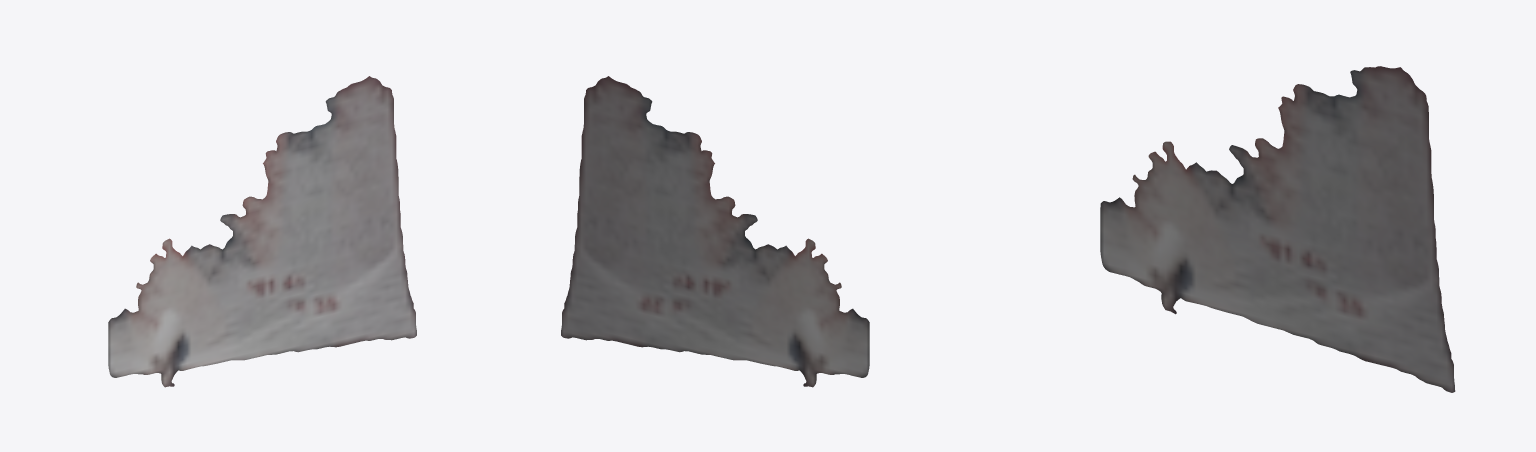
The model's file is Sticker_13.fbx.
3 renders of one model, left to right at view 1: azimuth 30°, elevation 25°; view 2: azimuth 150°, elevation 25°; view 3: azimuth 330°, elevation 25°, orthographic. The views are drawn at different scales.
Visible parts, largest first — view 1: Sticker_13; view 2: Sticker_13; view 3: Sticker_13.
Boxes of the visible parts, x1,y1,x2,y2 form: Sticker_13: [108, 76, 416, 387]; Sticker_13: [561, 76, 869, 387]; Sticker_13: [1100, 66, 1455, 392].
Bounding box in the file's own units: 0.2023 × 0.1474 × 6.44e-09.
